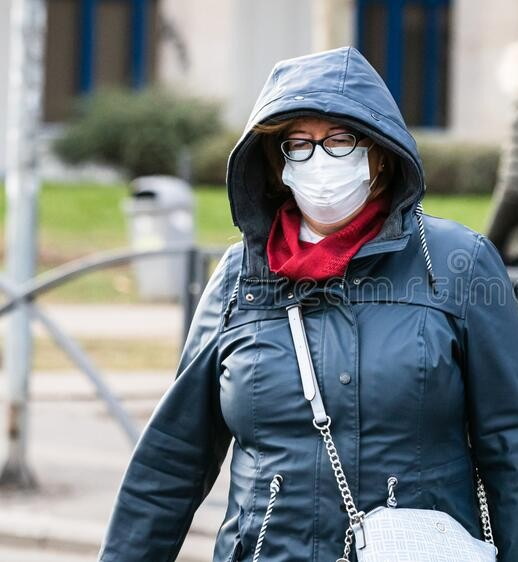with_mask: (271, 111, 389, 226)
